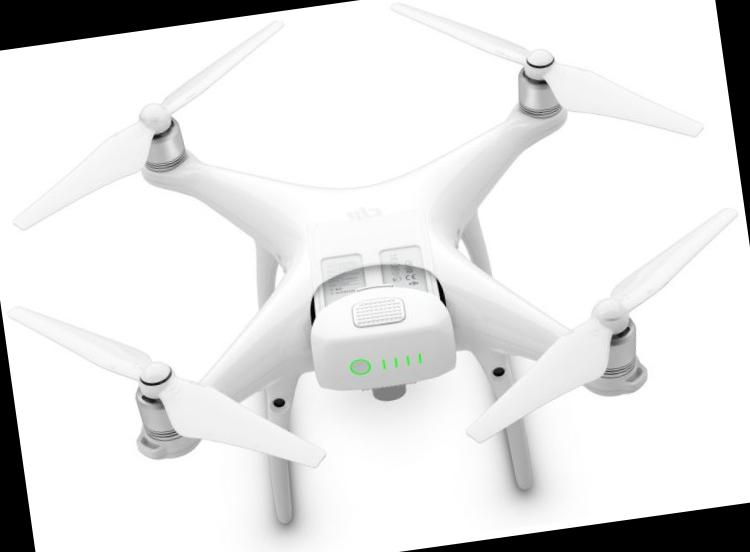drone: (0, 0, 737, 532)
